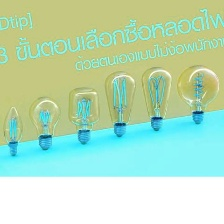light_bulb: (174, 62, 221, 126), (102, 67, 137, 138), (138, 64, 174, 132), (64, 84, 102, 146), (25, 93, 63, 153), (0, 104, 26, 157)
